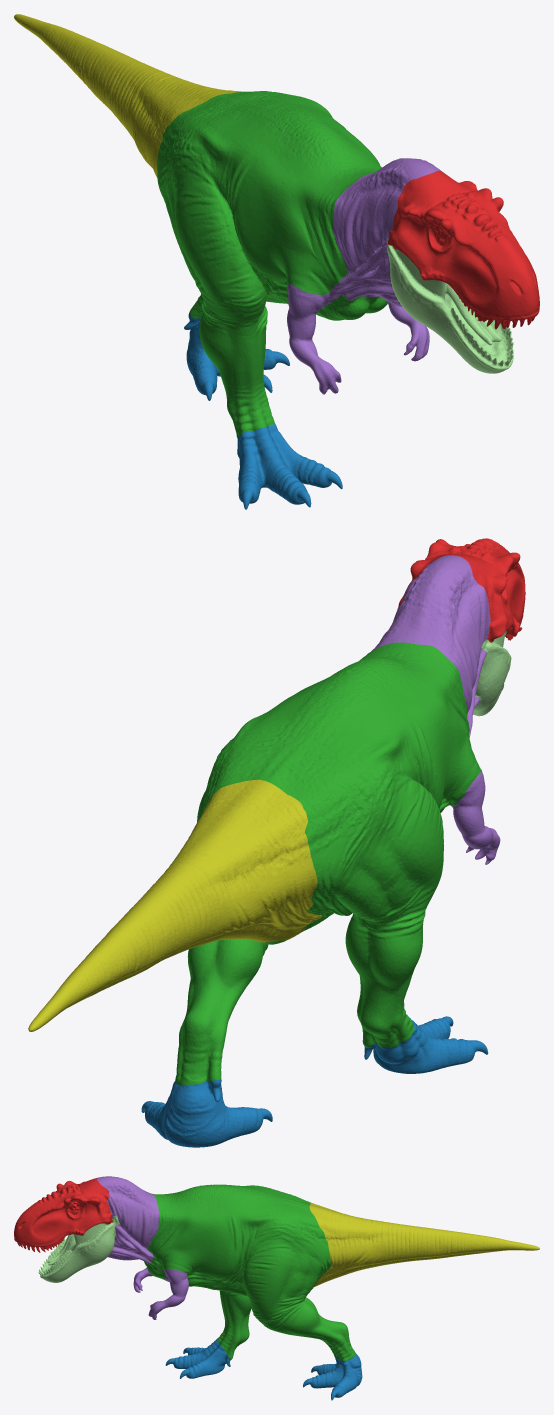
File: SubdividedModelT-Rex.glb
3 renders of one model, top to bottom at view 1: azimuth 30°, elevation 25°; view 2: azimuth 150°, elevation 25°; view 3: azimuth 270°, elevation 25°, orthographic. The views are drawn at different scales.
Parts seen in each view (by area): view 1: model_part8, model_part7, model_part1, model_part6, model_part5, model_part0, model_part4, model_part2, model_part3; view 2: model_part8, model_part1, model_part6, model_part2, model_part7, model_part0, model_part4, model_part5; view 3: model_part8, model_part1, model_part7, model_part6, model_part5, model_part2, model_part0, model_part3.
Part boxes in pixels (x1,y1,x2,y2): model_part8: (157,91,388,436); model_part7: (387,170,539,329); model_part1: (14,14,240,177); model_part6: (326,158,440,306); model_part5: (386,237,513,373); model_part0: (237,424,342,509); model_part4: (287,284,341,394); model_part2: (184,313,289,400); model_part3: (388,302,429,361); model_part8: (175,642,481,1085); model_part1: (28,779,321,1031); model_part6: (369,555,490,738); model_part2: (141,1079,272,1147); model_part7: (397,538,525,642); model_part0: (364,1016,488,1073); model_part4: (451,771,500,864); model_part5: (473,630,511,716); model_part8: (144,1184,355,1361); model_part1: (309,1202,539,1286); model_part7: (14,1178,112,1252); model_part6: (96,1176,159,1264); model_part5: (38,1216,119,1282); model_part2: (303,1353,362,1400); model_part0: (165,1339,231,1378); model_part3: (148,1268,188,1319).
Bounding box in the file's own units: 0.0266 × 0.0517 × 0.12.
